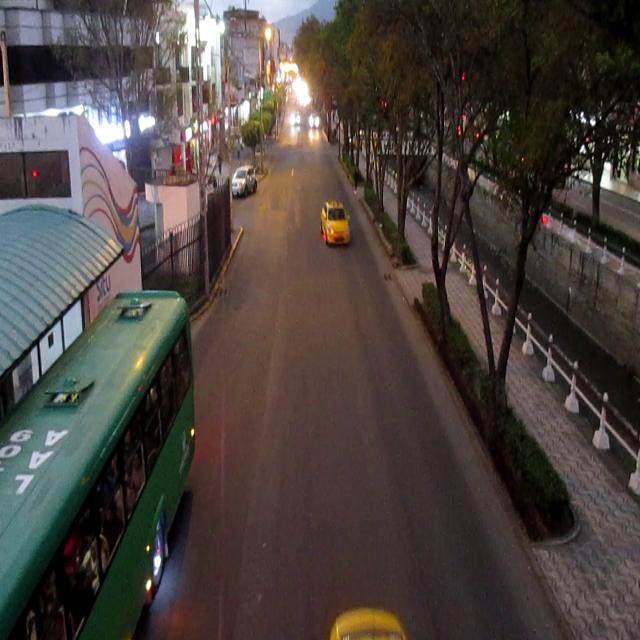BUS: (4, 288, 199, 636)
SUV: (234, 167, 258, 197)
